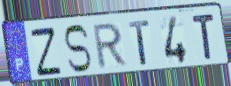4: (163, 13, 189, 65)
R: (92, 21, 129, 72)
S: (62, 23, 93, 75)
T: (190, 12, 217, 62), (127, 18, 151, 66)
Z: (28, 25, 63, 78)
